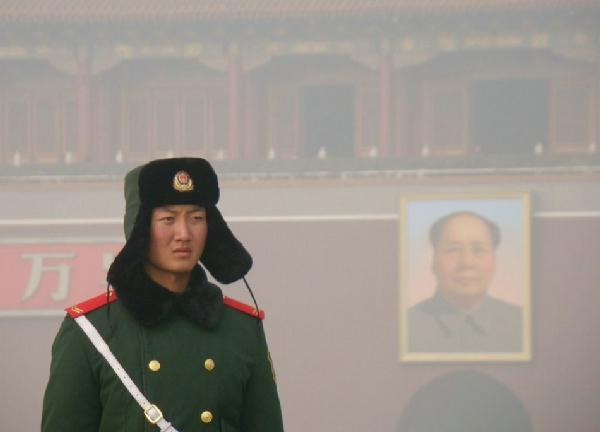person: (40, 157, 283, 432)
